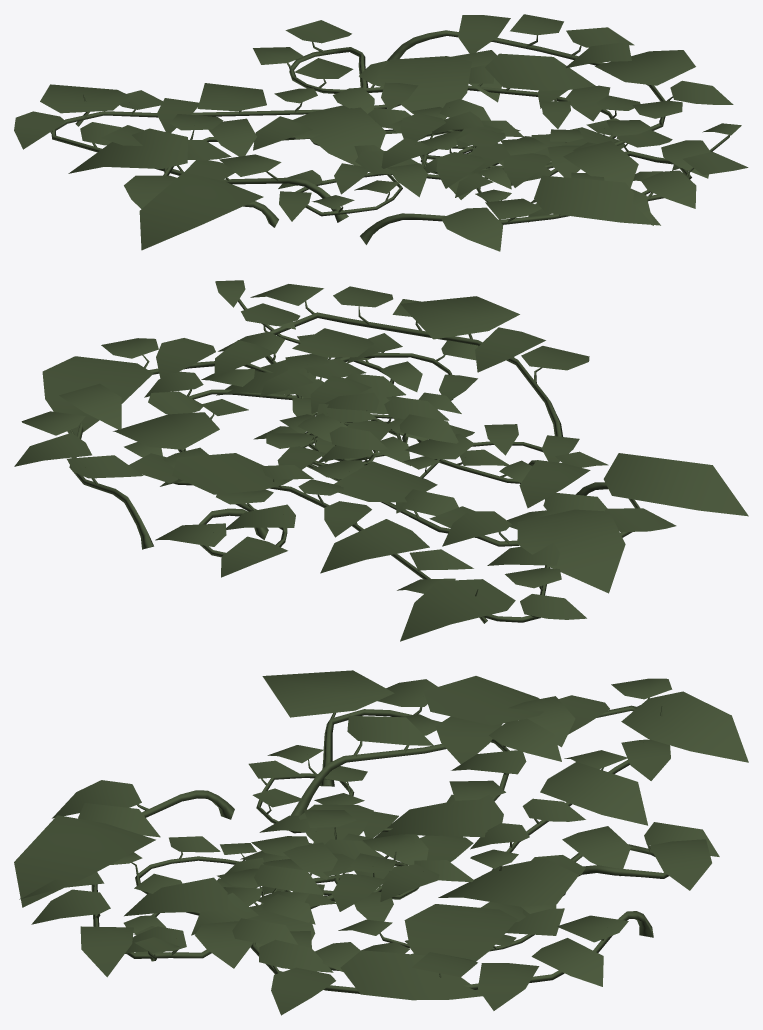
File: scene_Ivy3.fbx
The picture shows the model from 3 angles, top to bottom: view 1: azimuth 30°, elevation 25°; view 2: azimuth 150°, elevation 25°; view 3: azimuth 270°, elevation 25°; orthographic projection. The views are drawn at different scales.
Visible parts, largest first — view 1: Ivy3; view 2: Ivy3; view 3: Ivy3.
Boxes of the visible parts, x1,y1,x2,y2 form: Ivy3: [14, 14, 748, 251]; Ivy3: [14, 280, 748, 641]; Ivy3: [14, 670, 748, 1015].
Bounding box in the file's own units: 3.38 × 0.3131 × 3.02.
